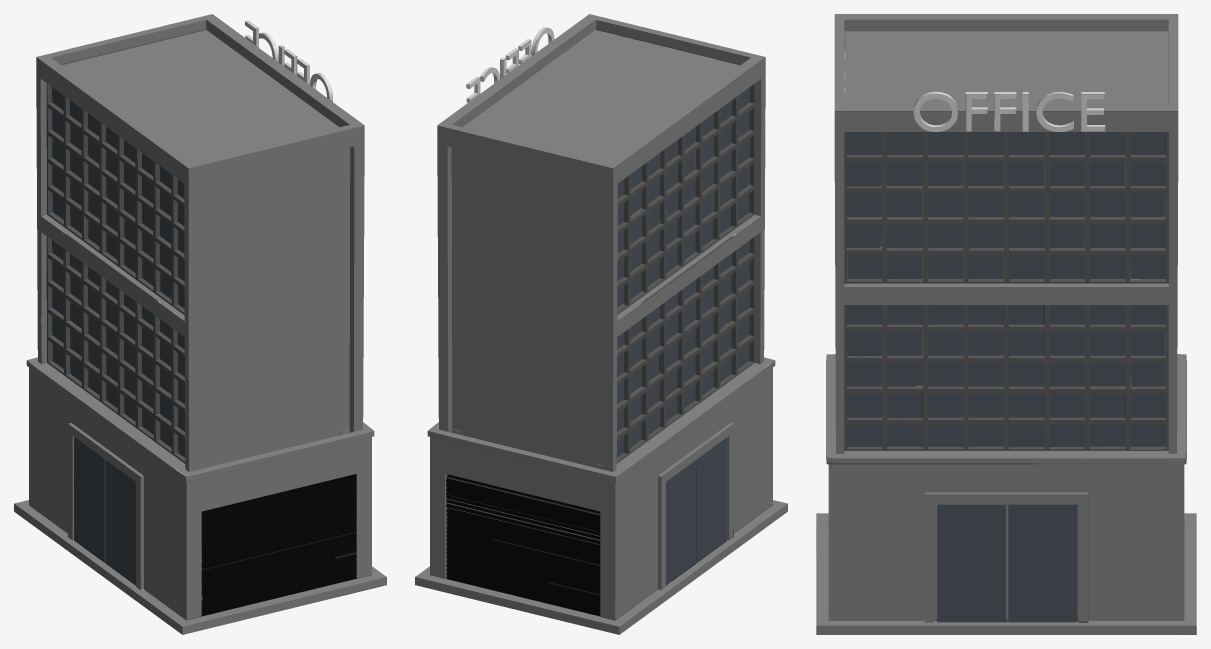
Rendered from 사무실.fbx.
The picture shows the model from 3 angles, left to right: view 1: azimuth 30°, elevation 25°; view 2: azimuth 150°, elevation 25°; view 3: azimuth 270°, elevation 25°; orthographic projection. The views are drawn at different scales.
Visible parts, largest first — view 1: Office; view 2: Office; view 3: Office.
Part boxes in pixels (<box>): Office: <box>14,14,386,634</box>; Office: <box>415,14,787,634</box>; Office: <box>816,14,1196,634</box>.
Size of the model in its own units: 175 by 388 by 250.
1 material, 1 textured.
